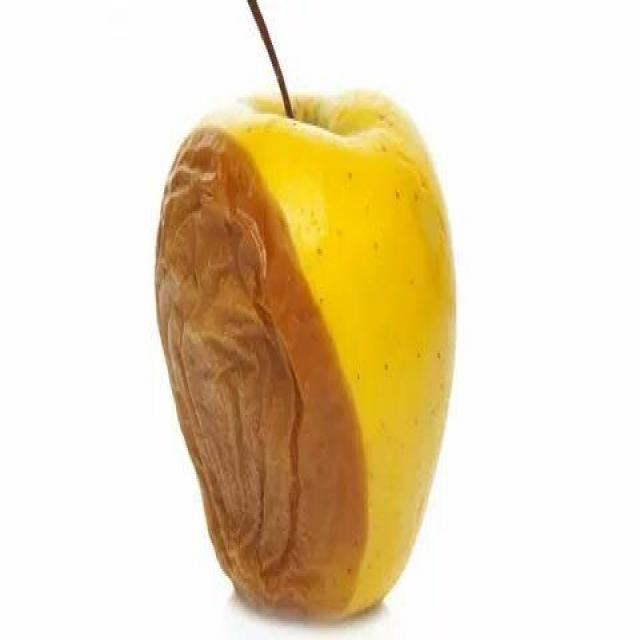Rotten: (155, 98, 463, 625)
